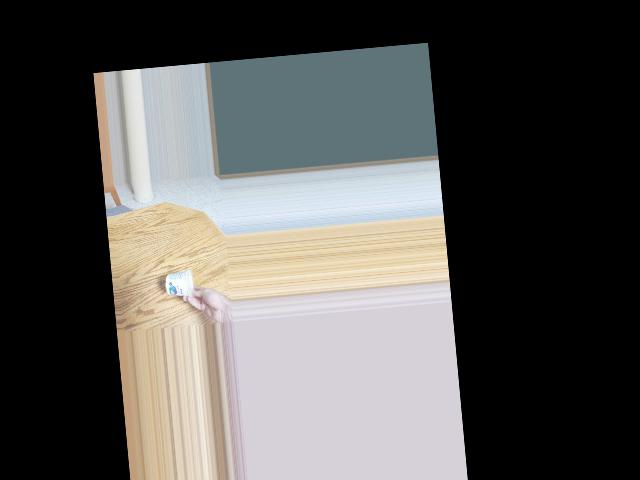cotage: (164, 266, 200, 304)
